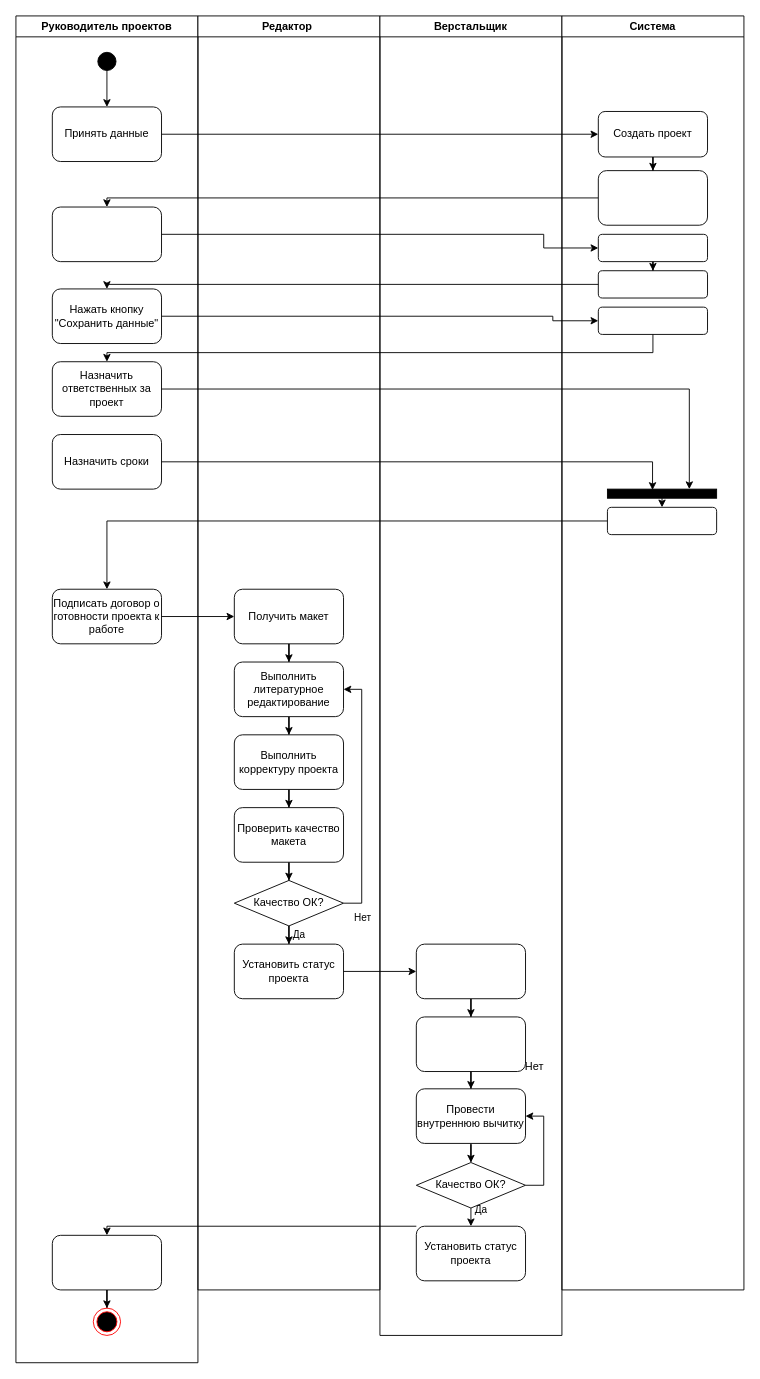
This 760x1379 diagram has some shape labels left out. Each missing label, with the centre of its shape:
Запросить полноту данных: the point at 652,247
Отправить статус полноты: the point at 652,284
Подготовить задание на верстку: the point at 470,971
Подписать договор о выпуске проекта: the point at 106,1262
Прислать сообщение о подтверждении: the point at 652,197
Проверить автопроверку на качество: the point at 470,1044
Проверить полноту: the point at 106,234
Сохранить данные в системе: the point at 652,320
Сохранить информацию: the point at 662,520
